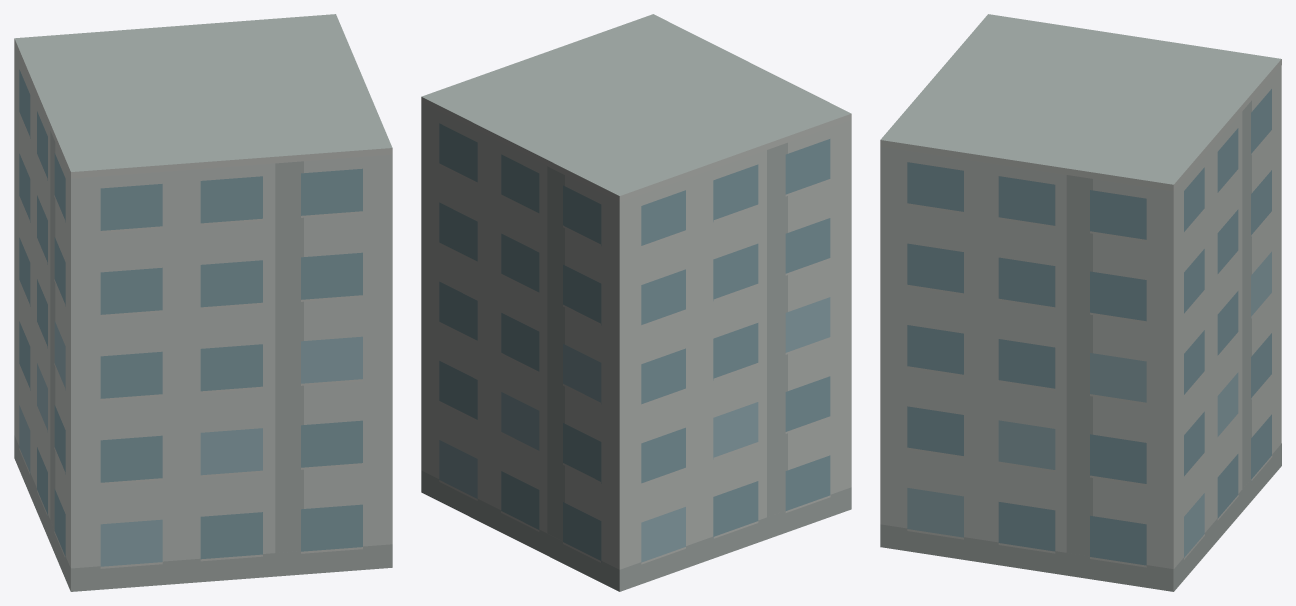
File: residential-b4bc9306-a2a1-45ad-aa91-e38c6a4c0599.glb
3 views of the same model, side by side, from view 1: azimuth 30°, elevation 25°; view 2: azimuth 150°, elevation 25°; view 3: azimuth 270°, elevation 25° (orthographic). The views are drawn at different scales.
Visible parts, largest first — view 1: residential-b4bc9306-a2a1-45ad-aa91-e38c6a4c0599.tmp; view 2: residential-b4bc9306-a2a1-45ad-aa91-e38c6a4c0599.tmp; view 3: residential-b4bc9306-a2a1-45ad-aa91-e38c6a4c0599.tmp.
Part boxes in pixels (left/top/right/bottom): residential-b4bc9306-a2a1-45ad-aa91-e38c6a4c0599.tmp: left=14, top=14, right=392, bottom=591; residential-b4bc9306-a2a1-45ad-aa91-e38c6a4c0599.tmp: left=421, top=14, right=851, bottom=591; residential-b4bc9306-a2a1-45ad-aa91-e38c6a4c0599.tmp: left=880, top=14, right=1281, bottom=591.
Bounding box in the file's own units: 13.73 × 15.25 × 13.64.
